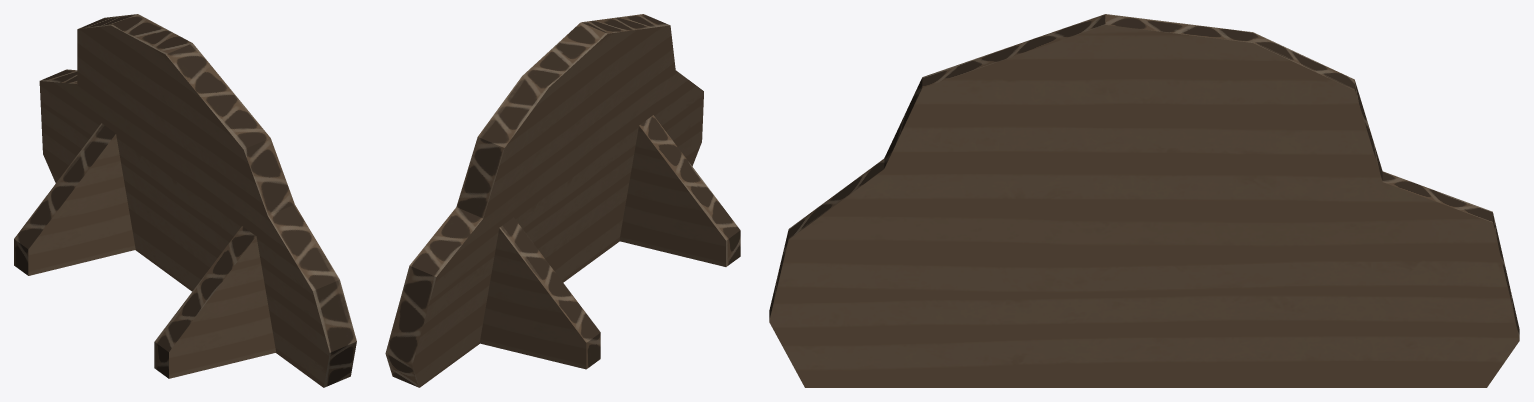
File: bushes_1.fbx
3 views of the same model, side by side, from view 1: azimuth 30°, elevation 25°; view 2: azimuth 150°, elevation 25°; view 3: azimuth 270°, elevation 25° (orthographic). The views are drawn at different scales.
Visible parts, largest first — view 1: pCube12; view 2: pCube12; view 3: pCube12.
Part boxes in pixels (x1,y1,x2,y2): pCube12: (14,14,356,387); pCube12: (385,14,740,387); pCube12: (769,14,1519,387).
Bounding box in the file's own units: 0.935 × 1.75 × 3.48.
1 material, 1 textured.
